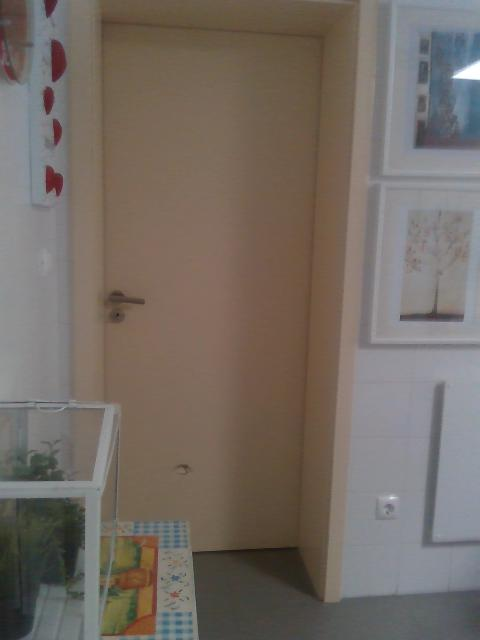door: (103, 21, 321, 551)
